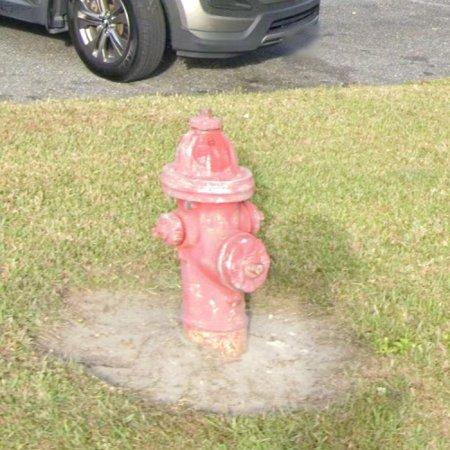a fire hydrant: (152, 109, 271, 357)
